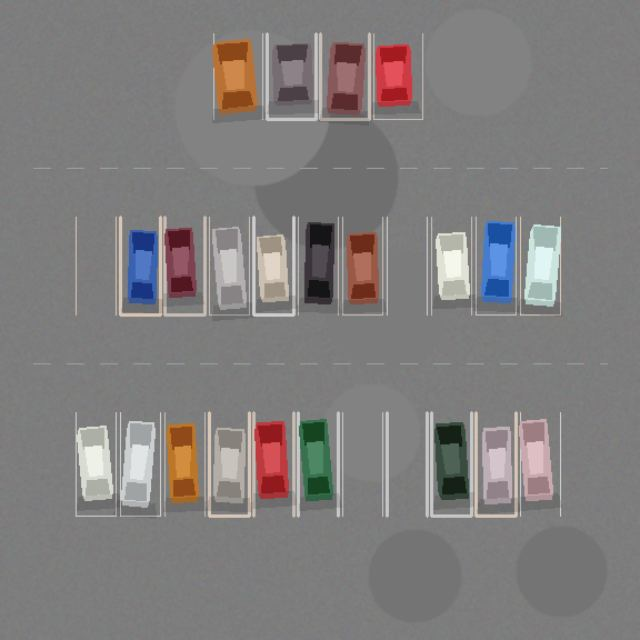space-empty: (342, 412, 382, 516), (387, 412, 427, 516), (76, 217, 116, 314), (387, 217, 427, 314)
space-occupied: (213, 33, 262, 119), (267, 33, 316, 119), (320, 33, 369, 119), (373, 33, 422, 119), (76, 412, 116, 516), (120, 412, 160, 516), (164, 412, 204, 516), (209, 412, 249, 516), (253, 412, 293, 516), (298, 412, 338, 516), (431, 412, 471, 516), (476, 412, 516, 516), (520, 412, 560, 516), (120, 217, 160, 314), (164, 217, 204, 314), (209, 217, 249, 314), (253, 217, 293, 314), (298, 217, 338, 314), (342, 217, 382, 314), (431, 217, 471, 314), (476, 217, 516, 314), (520, 217, 560, 314)
